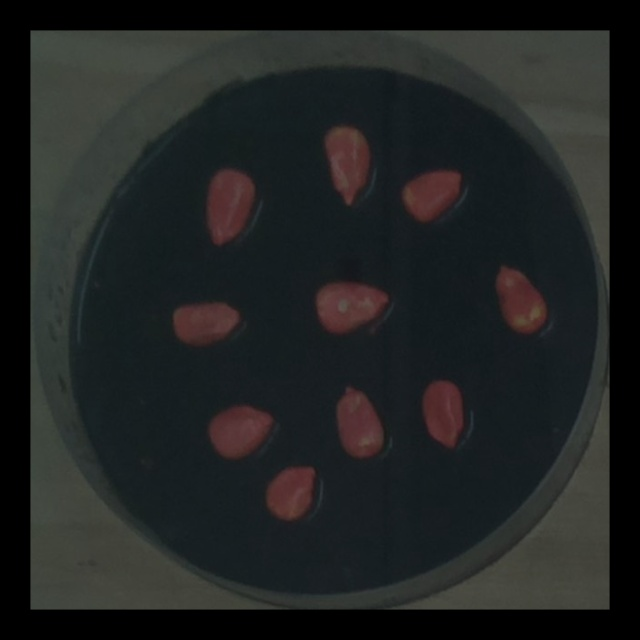Zea mays: (310, 275, 394, 342), (202, 397, 283, 465), (317, 119, 376, 211), (200, 162, 260, 251), (490, 256, 552, 339), (329, 379, 389, 464), (394, 160, 467, 226), (416, 372, 471, 457), (166, 294, 247, 351), (258, 459, 321, 528)
